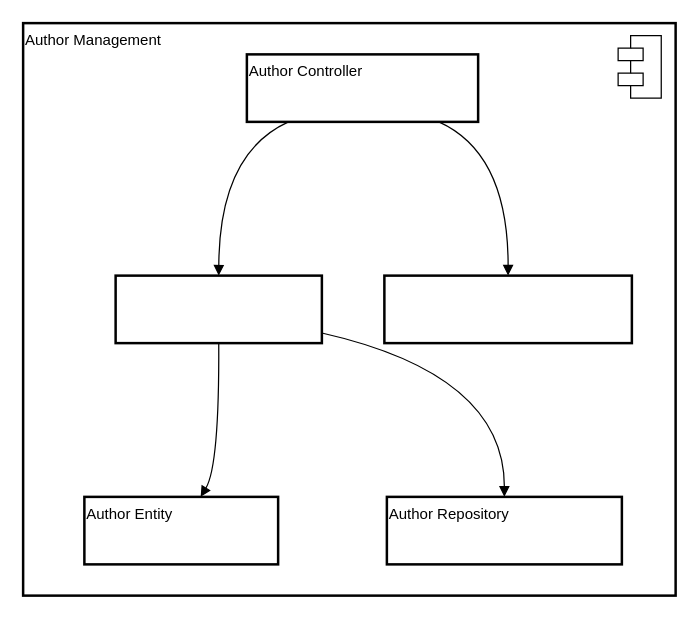
Some shapes in this 698 by 618 pixel diagram are drawn without their labels. The shapes that lost their labels are listed below. From the top down, each one's box as (x1, y1, x2, y2) in pixels, then its label:
(114, 274, 322, 344): Author Service
(382, 274, 632, 344): Author DTOs/Views
